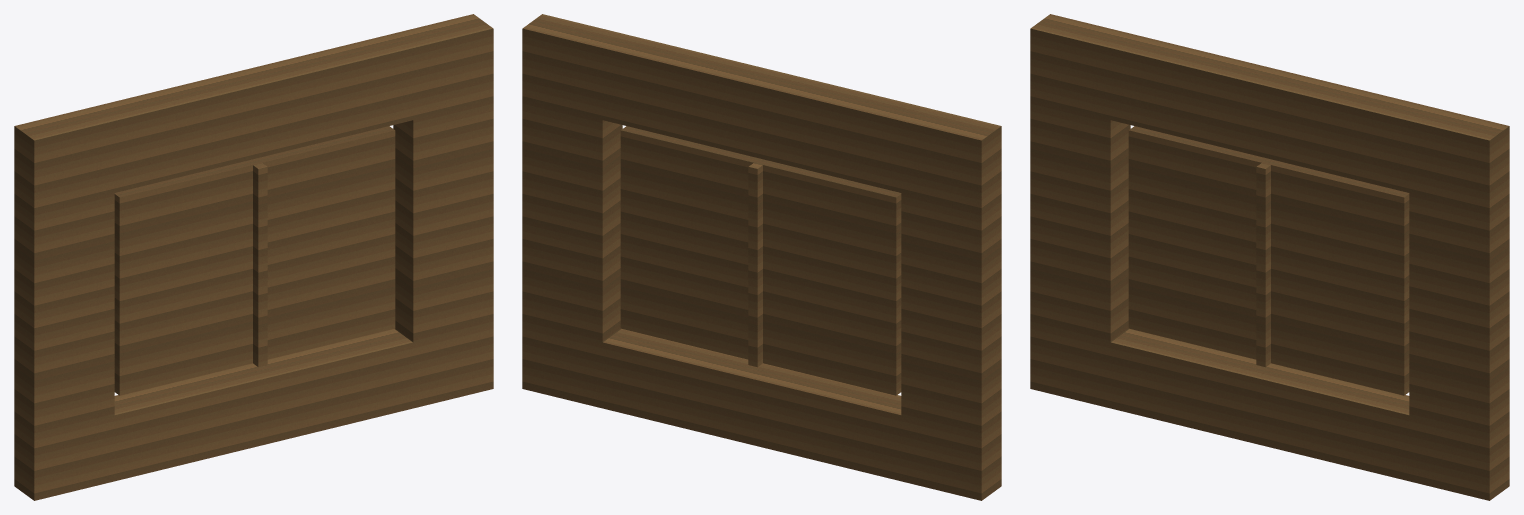
3 views of the same model, side by side, from view 1: azimuth 30°, elevation 25°; view 2: azimuth 150°, elevation 25°; view 3: azimuth 330°, elevation 25° (orthographic).
Visible parts, largest first — view 1: win_wood_1u_production_run001; view 2: win_wood_1u_production_run001; view 3: win_wood_1u_production_run001.
Part boxes in pixels (x1,y1,x2,y2): win_wood_1u_production_run001: (14, 14, 493, 500); win_wood_1u_production_run001: (522, 14, 1001, 500); win_wood_1u_production_run001: (1030, 14, 1509, 500).
Bounding box in the file's own units: 4 × 3 × 0.3.
Materials: 1 (1 with a texture image).
